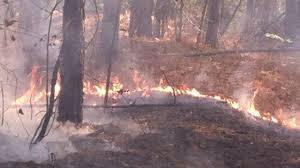fire: (10, 66, 62, 106)
